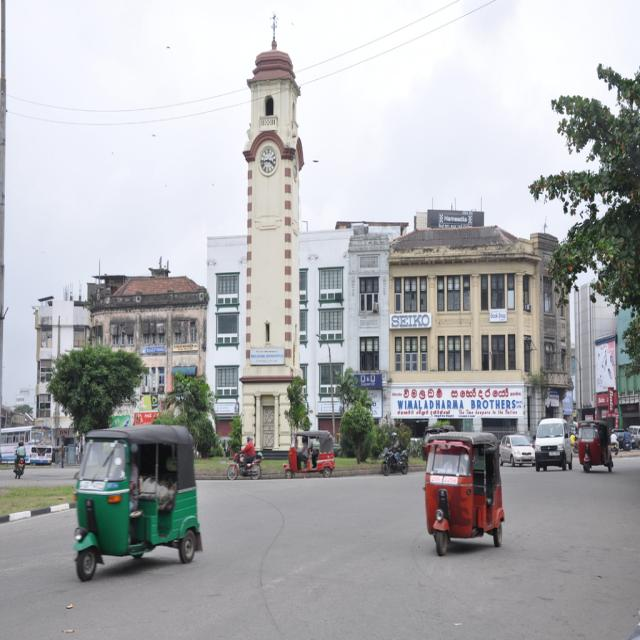car: (533, 416, 573, 472), (499, 431, 532, 466)
